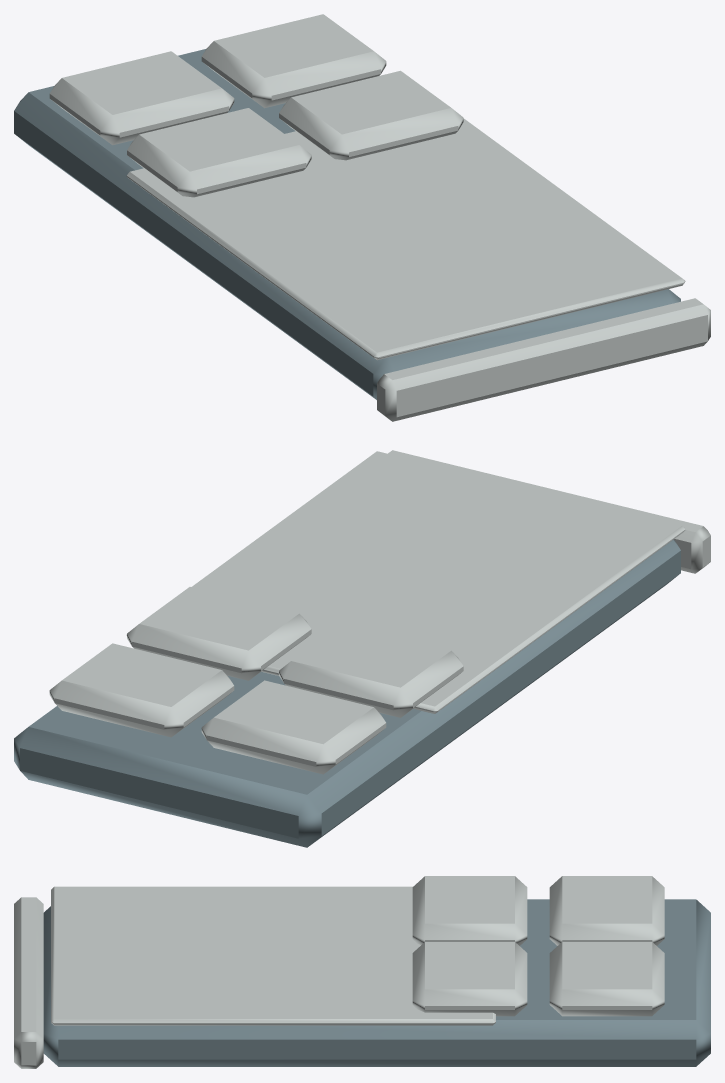
File: chocolate-bar.glb
The picture shows the model from 3 angles, top to bottom: view 1: azimuth 30°, elevation 25°; view 2: azimuth 150°, elevation 25°; view 3: azimuth 270°, elevation 25°; orthographic projection. The views are drawn at different scales.
Visible parts, largest first — view 1: paper_sleeve, foil_wrapper, crimp, chocolate_square, chocolate_square.002, chocolate_square.001, chocolate_square.003; view 2: paper_sleeve, foil_wrapper, chocolate_square, chocolate_square.002, chocolate_square.003, chocolate_square.001, crimp; view 3: paper_sleeve, foil_wrapper, chocolate_square.002, chocolate_square.003, chocolate_square, chocolate_square.001, crimp.
Boxes of the visible parts, left/top/right/bottom form: paper_sleeve: left=126, top=118, right=685, bottom=360; foil_wrapper: left=14, top=48, right=680, bottom=399; crimp: left=377, top=298, right=710, bottom=421; chocolate_square: left=49, top=51, right=234, bottom=145; chocolate_square.002: left=201, top=14, right=386, bottom=108; chocolate_square.001: left=127, top=108, right=311, bottom=197; chocolate_square.003: left=279, top=70, right=463, bottom=160; paper_sleeve: left=126, top=451, right=685, bottom=713; foil_wrapper: left=14, top=539, right=680, bottom=847; chocolate_square: left=201, top=680, right=386, bottom=774; chocolate_square.002: left=49, top=643, right=234, bottom=737; chocolate_square.003: left=127, top=587, right=311, bottom=680; chocolate_square.001: left=279, top=624, right=463, bottom=717; crimp: left=388, top=450, right=710, bottom=573; paper_sleeve: left=51, top=886, right=495, bottom=1025; foil_wrapper: left=43, top=899, right=710, bottom=1066; chocolate_square.002: left=549, top=942, right=664, bottom=1016; chocolate_square.003: left=412, top=942, right=527, bottom=1016; chocolate_square: left=549, top=876, right=664, bottom=945; chocolate_square.001: left=412, top=876, right=527, bottom=945; crimp: left=14, top=897, right=43, bottom=1068.
Bounding box in the file's own units: 0.09 × 0.022 × 0.188.
